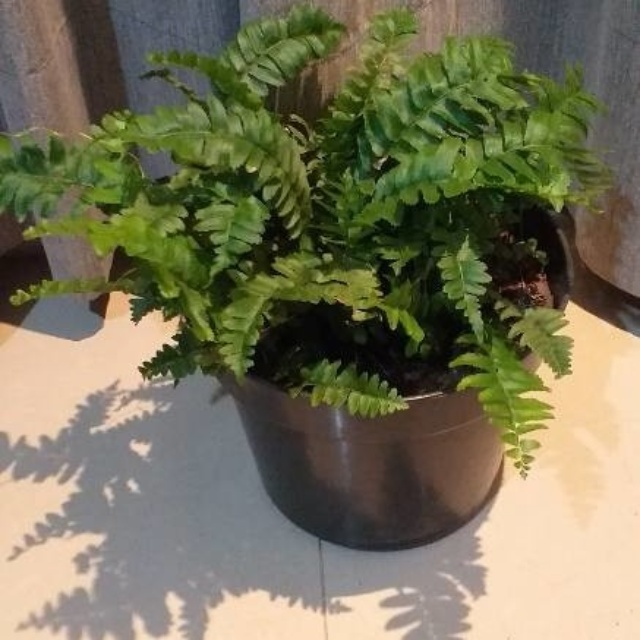obstacle: (73, 25, 592, 551)
